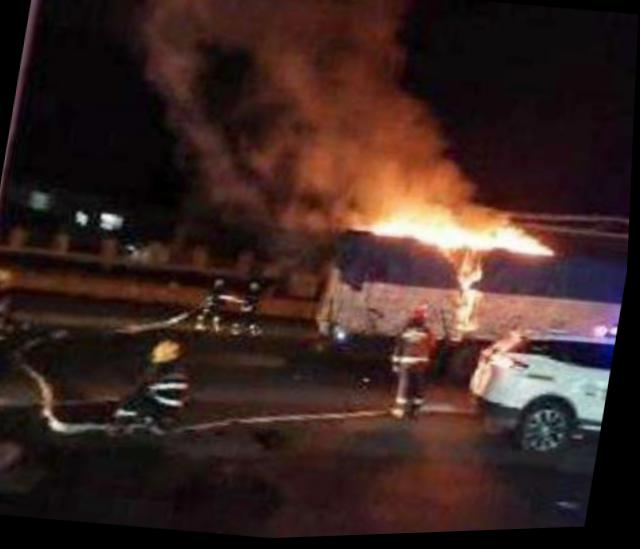fire: (332, 186, 563, 308)
